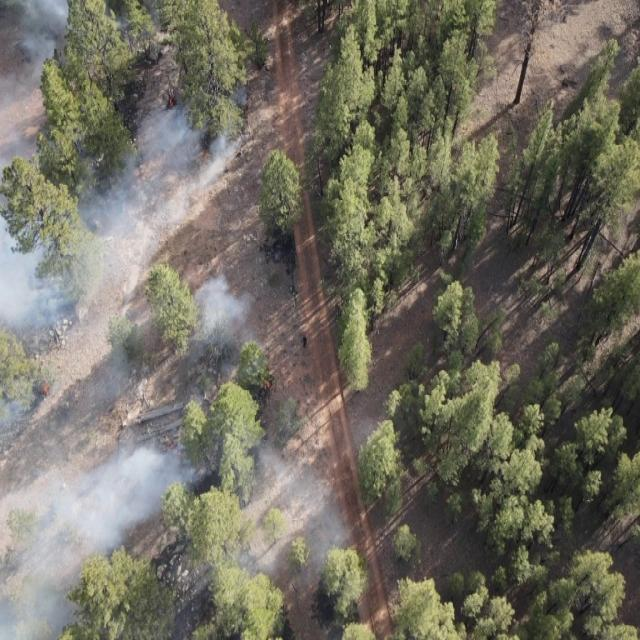fire: (38, 378, 51, 400), (259, 375, 273, 393), (162, 440, 178, 452), (166, 92, 177, 109)
smoke: (3, 342, 206, 640), (3, 1, 250, 221), (219, 427, 350, 589), (0, 222, 166, 342), (174, 276, 259, 348)
